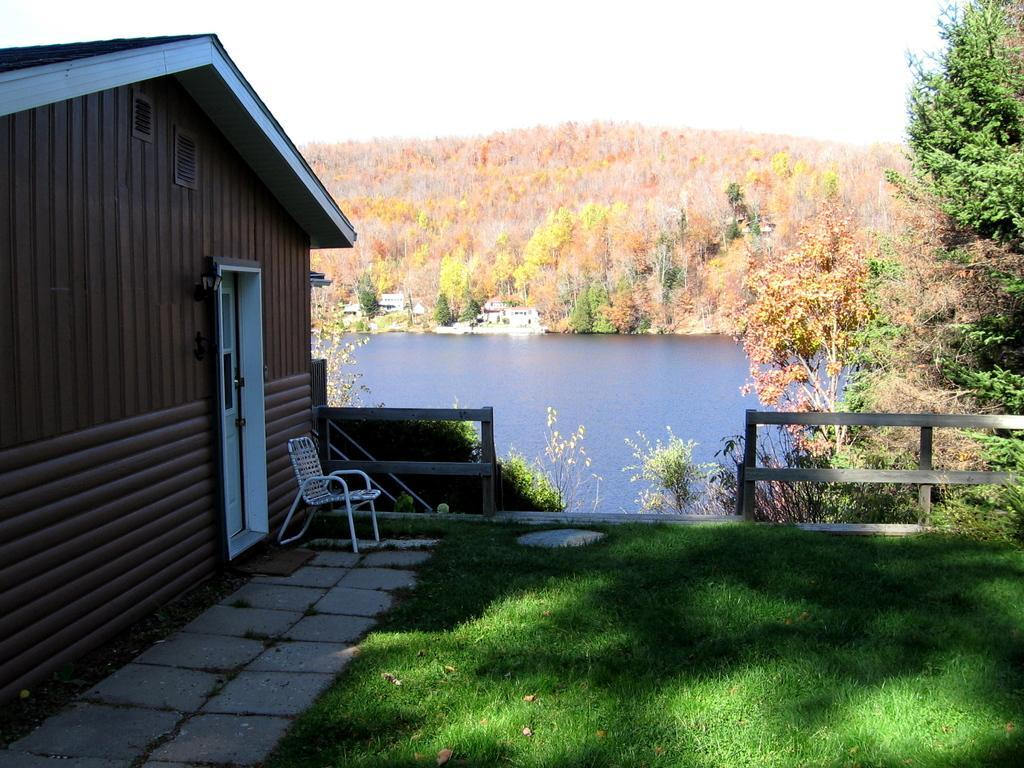door: (219, 293, 243, 530)
